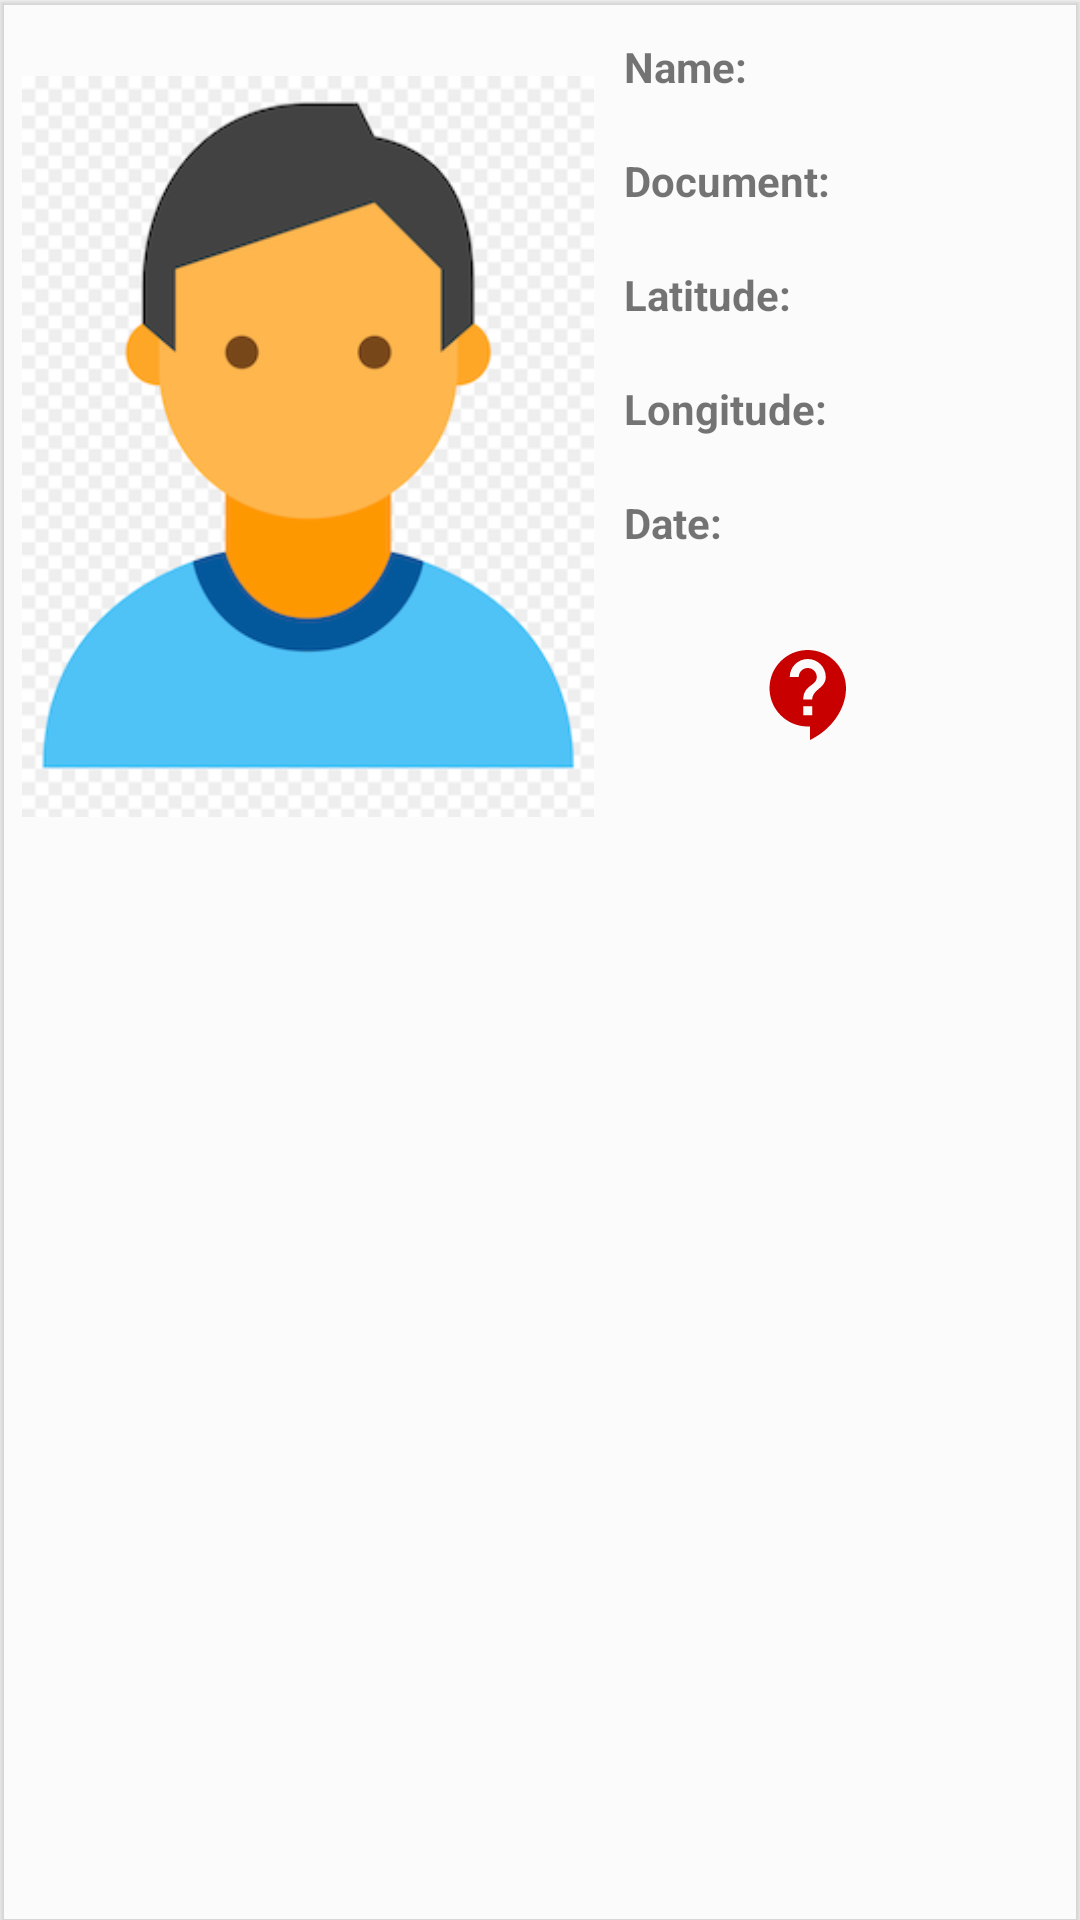

Icon bounding boxes for this 1080×1920 phone screenshot, format bbox=(x1, y1, x2, y2):
unknow: bbox=(769, 650, 846, 740)
